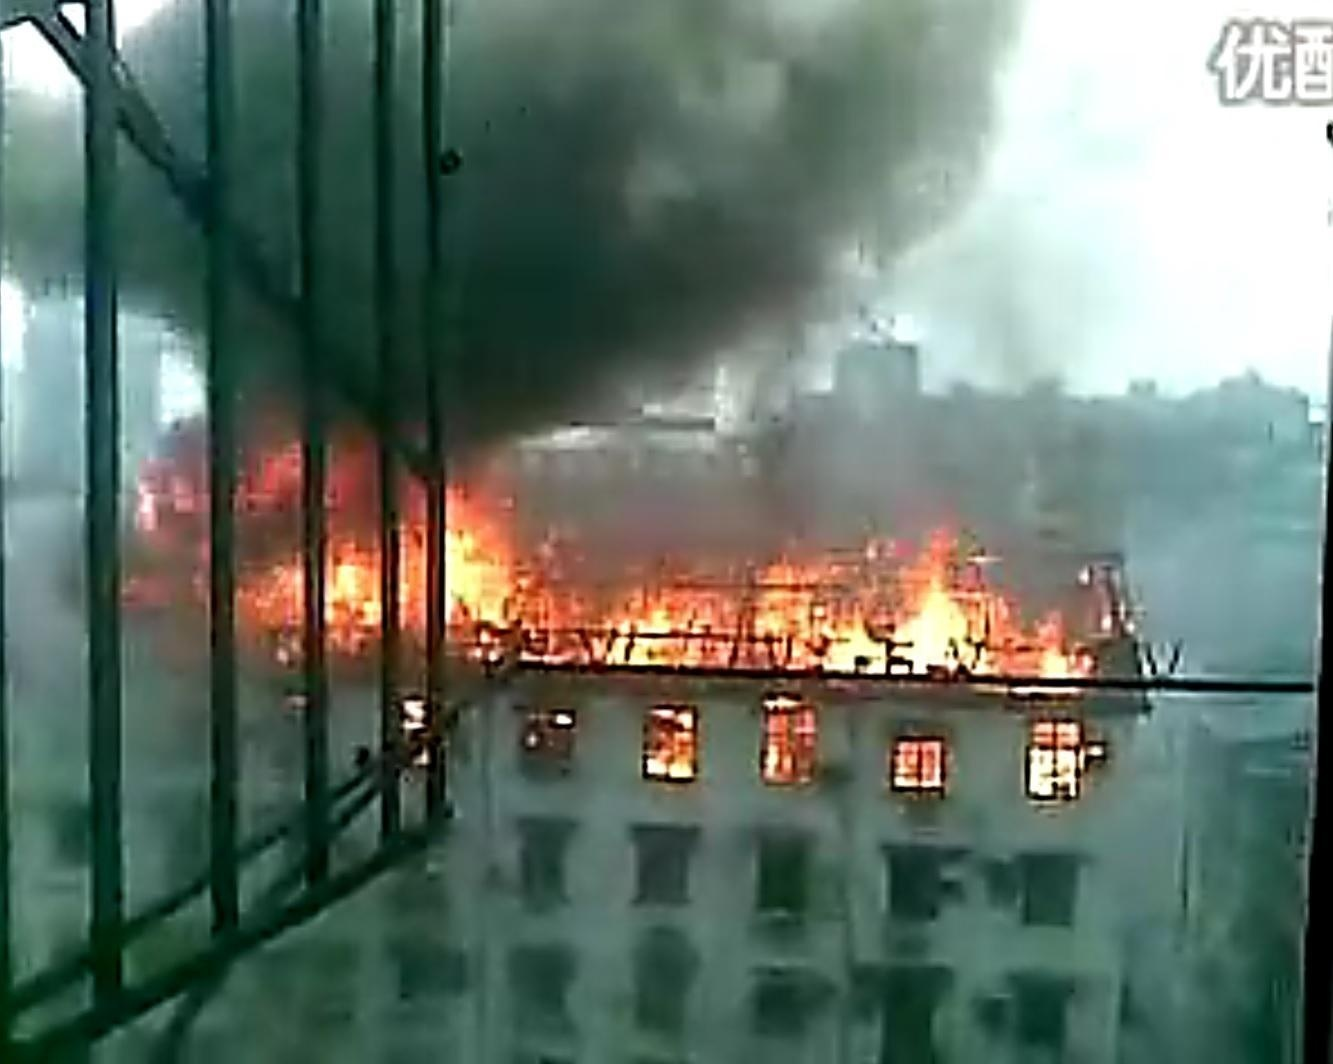fire: (466, 534, 1078, 669), (761, 697, 816, 781), (1029, 723, 1084, 799), (646, 702, 697, 781), (888, 731, 945, 791)
